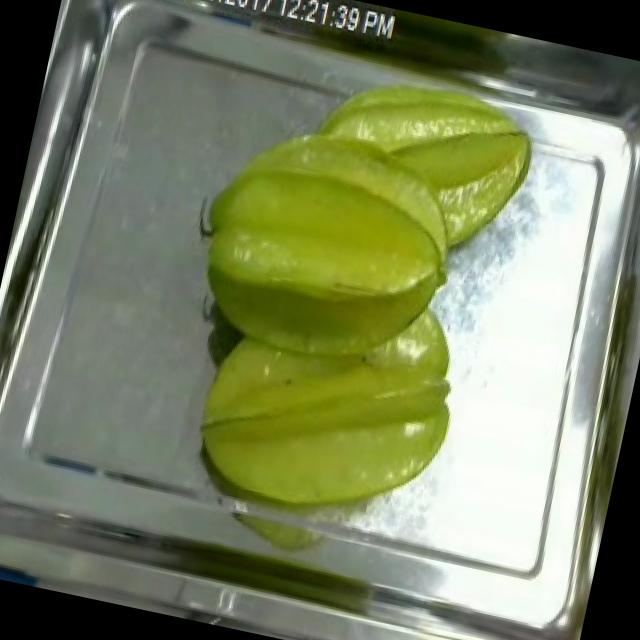fruit: (180, 52, 492, 341), (171, 285, 477, 547)
